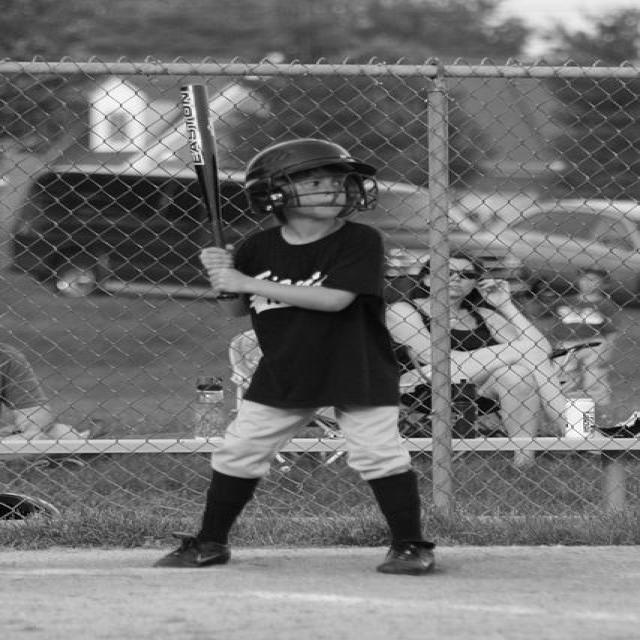vehicle: (18, 169, 217, 306), (348, 177, 532, 304), (481, 199, 640, 308)
